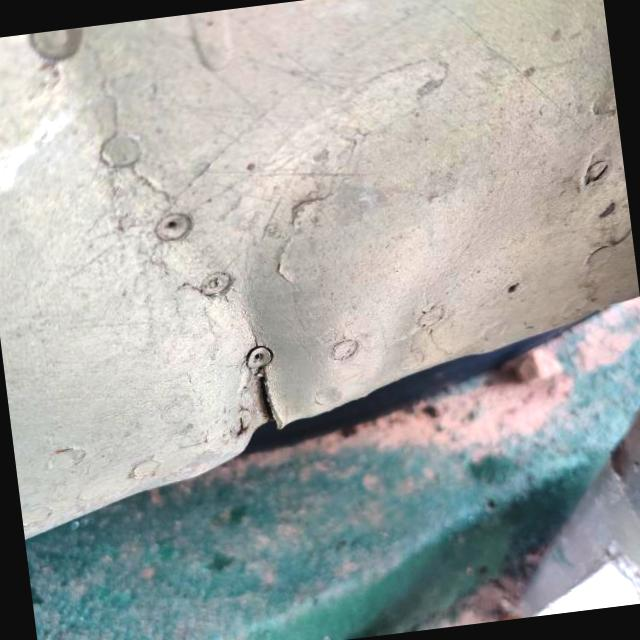crack: (230, 347, 302, 441)
